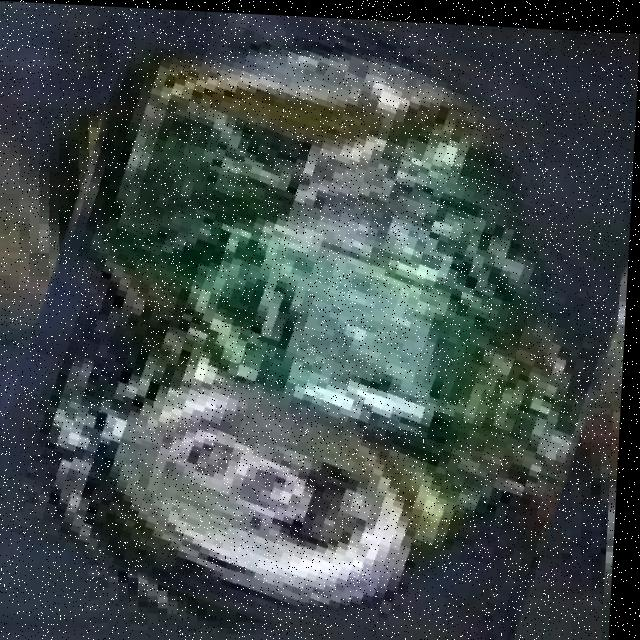can: (0, 6, 624, 640)
